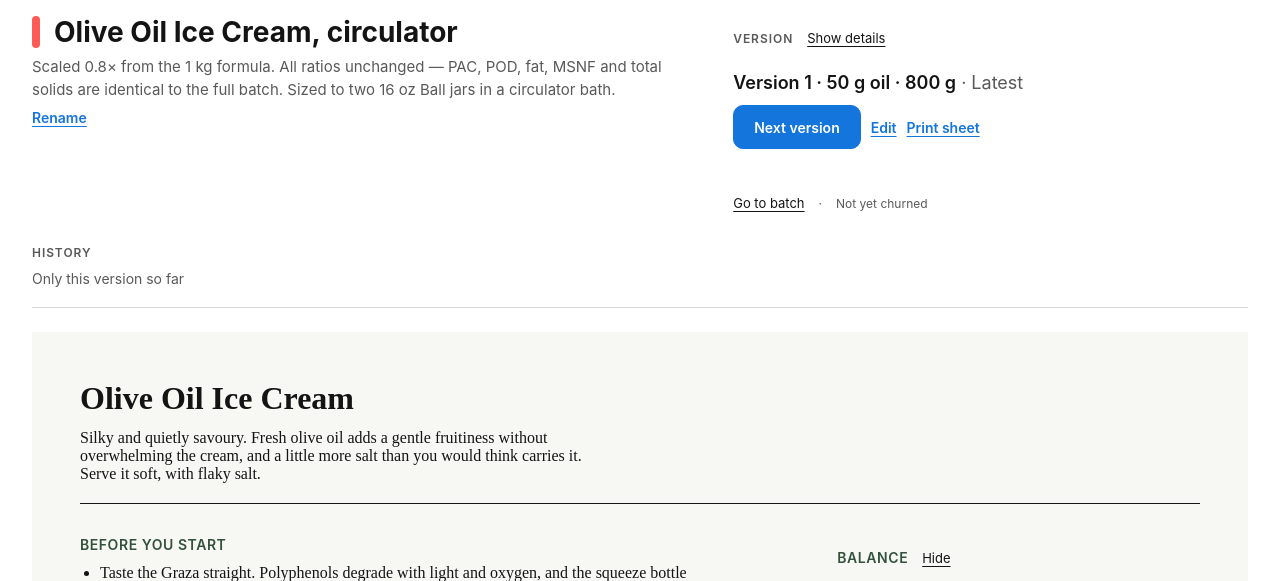
Test: a Next version draft is kept through a reload (04-09, Task 1) › Escape closing an untouched pen leaves no draft (D-16)
Click the button "Next version". click: (797, 127)
box: [733, 105, 861, 149]
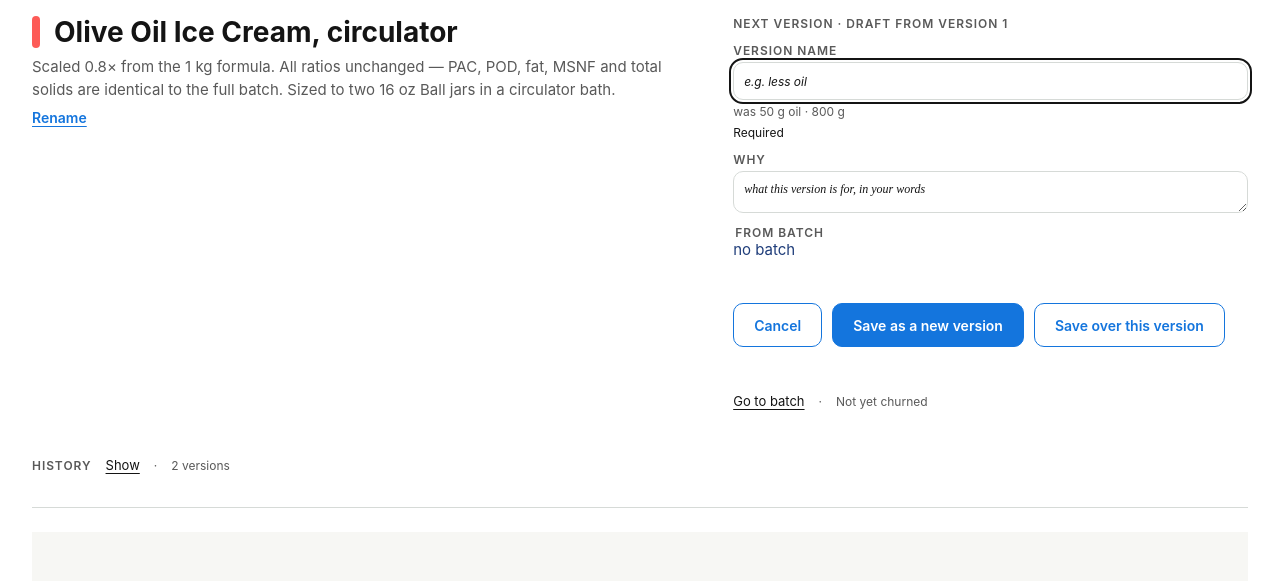
Check: the form named "Next version" is shown, box [733, 16, 1248, 347]
